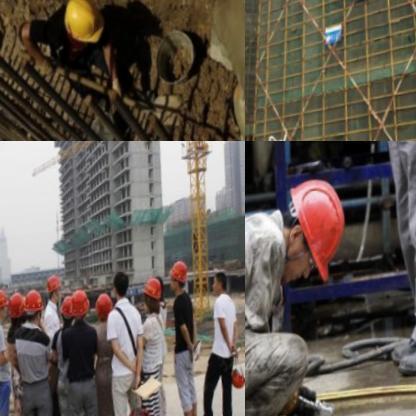helmet: (274, 172, 358, 290), (60, 0, 106, 51), (24, 284, 51, 332), (143, 276, 169, 319), (93, 288, 120, 329), (9, 291, 32, 333), (169, 262, 193, 298), (72, 291, 93, 331), (46, 273, 67, 310), (62, 292, 80, 331), (0, 285, 12, 325)
